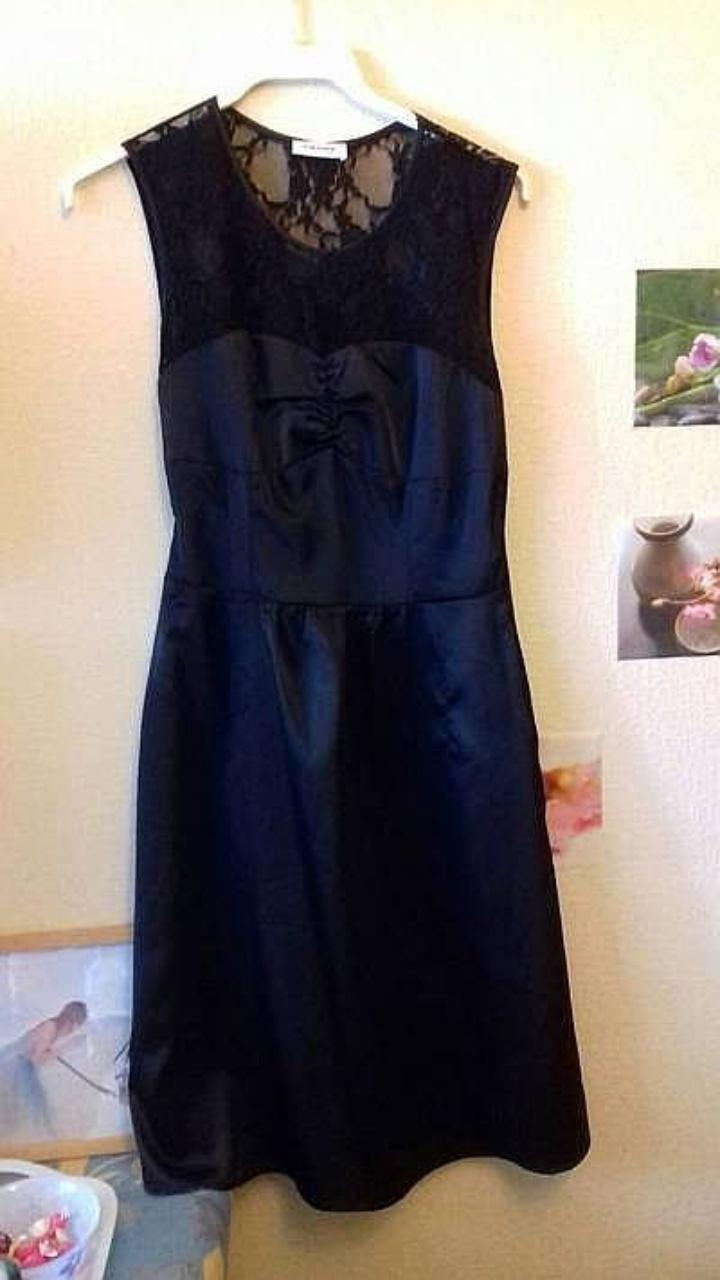Dresses: (123, 96, 589, 1209)
